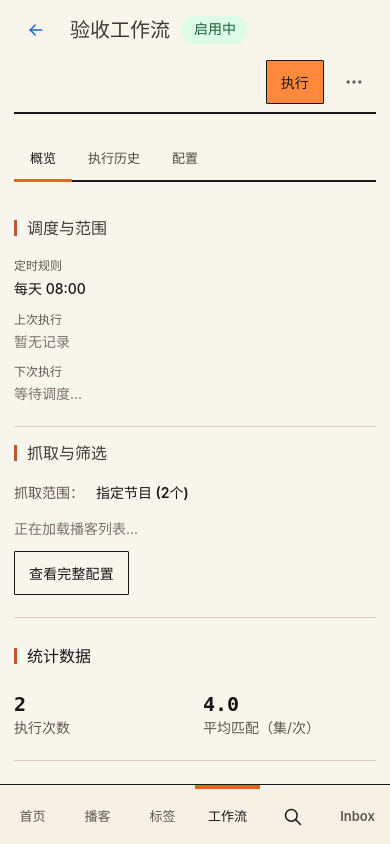
Test: 工作流执行历史可见等待验收 (#34) › 运行中任务按既有节奏轮询刷新
Expected: the text "验收工作流" is shown, x1=70 y1=19 x2=170 y2=41
Click the tab "执行历史": (114, 160) x1=72 y1=138 x2=156 y2=182
Wait 3100 ms
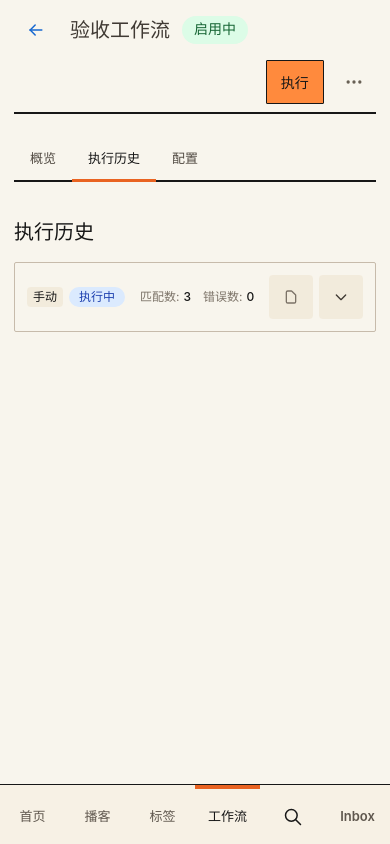
Result: the text "匹配数:" is shown at x1=140 y1=289 x2=179 y2=304
